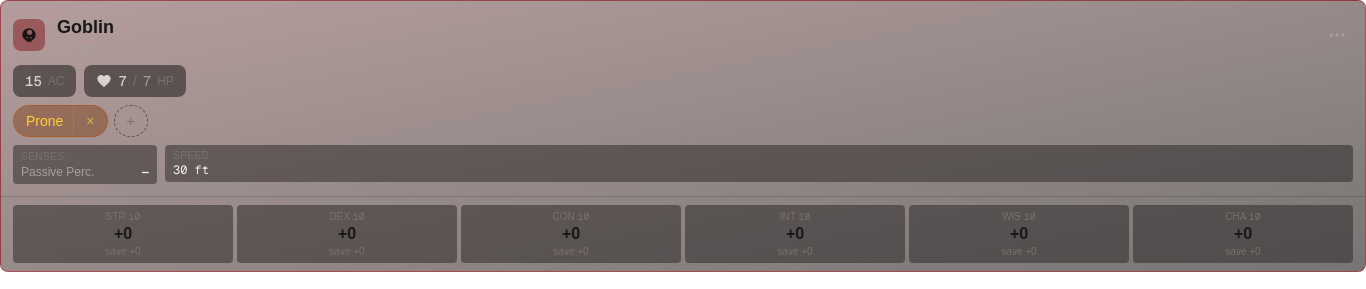
Test: condition chips + picker › shows active conditions on the card and removes one with a single click
Expected: the button "Prone" is shown, 14,106 -> 73,136
Click the button named "Remove Prone from Goblin". click: (90, 121)
box: 73,106 -> 107,136
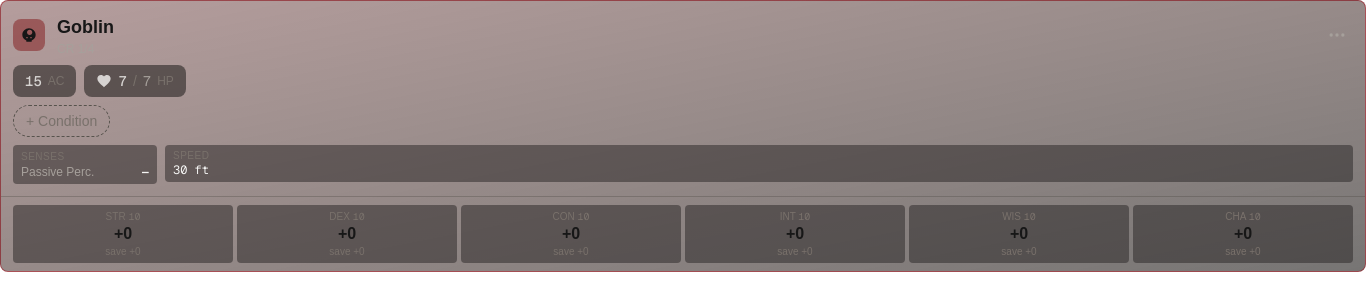
Now the button "Prone" is gone
